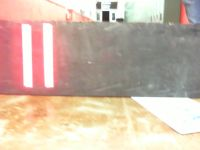switch: (21, 23, 33, 88), (42, 23, 54, 88)
